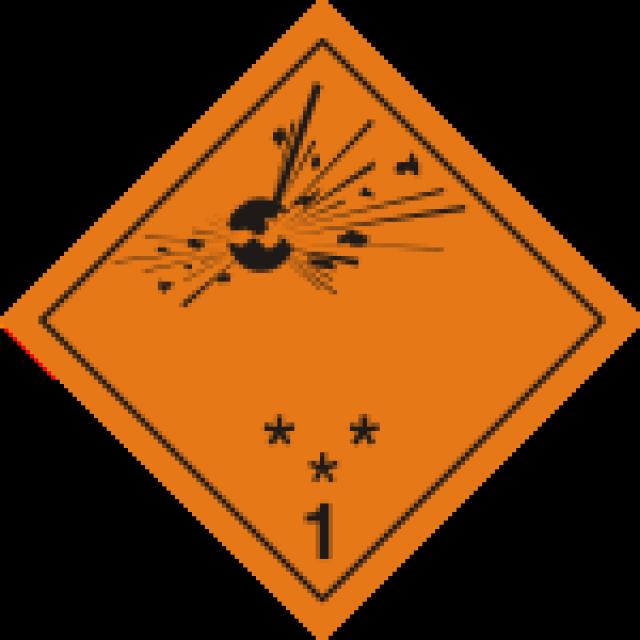Divisions 1-1-C1-3: (4, 4, 640, 640)
